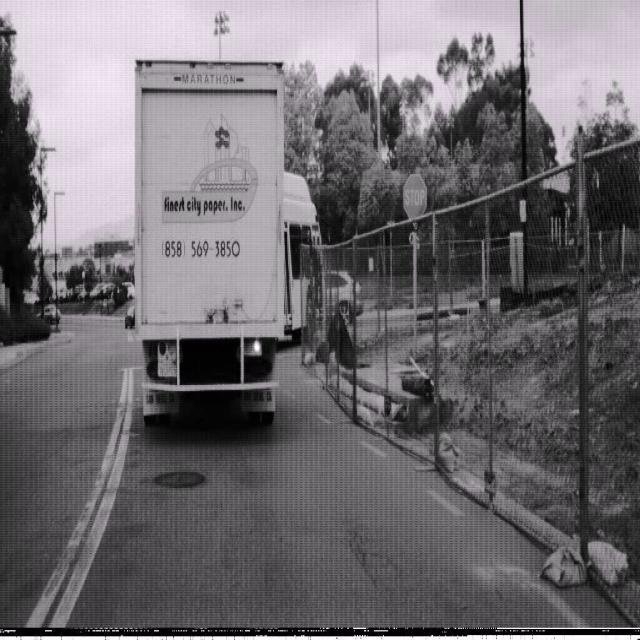stop: (402, 172, 427, 220)
